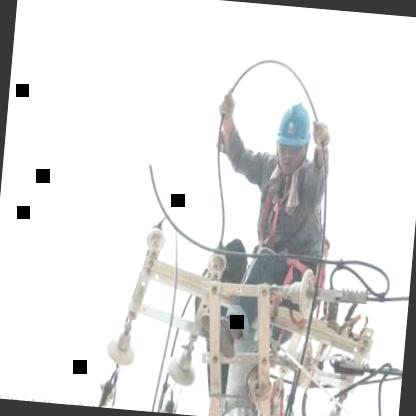helmet: (270, 96, 316, 180)
